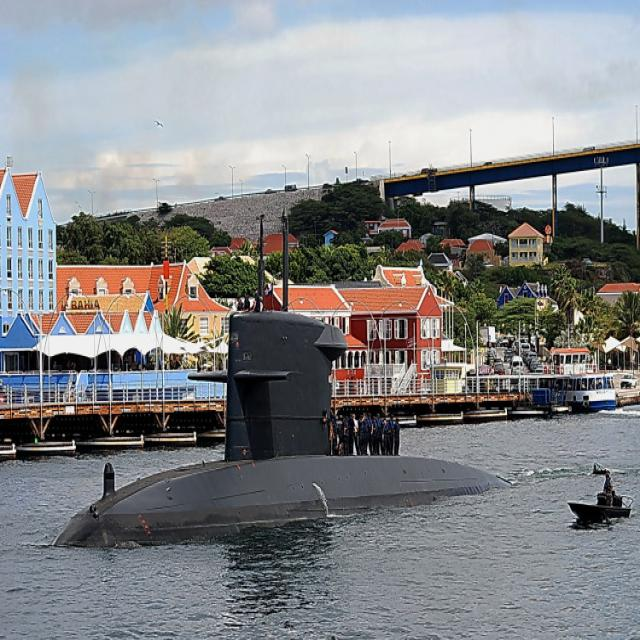submarine: (53, 208, 516, 555)
